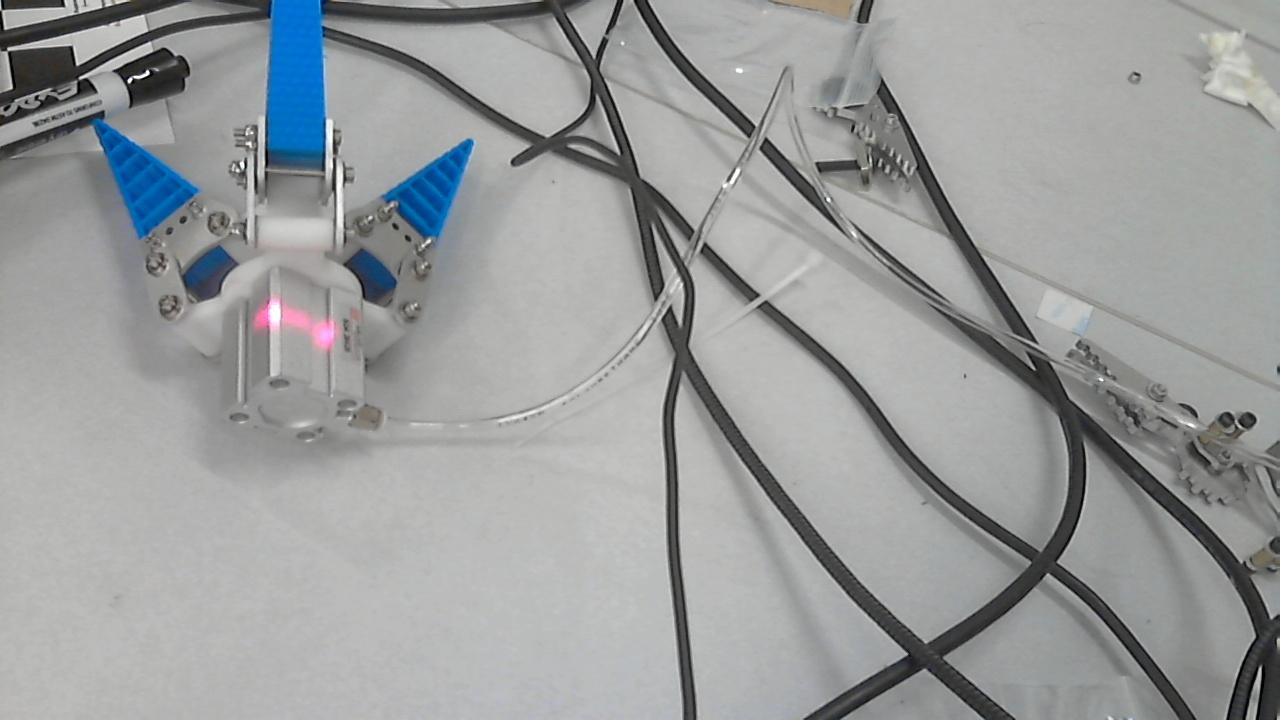Object robotic gripper finger assembly - Material metal - Pdfname Yy6dySnH33wN: (239, 302, 366, 359)
